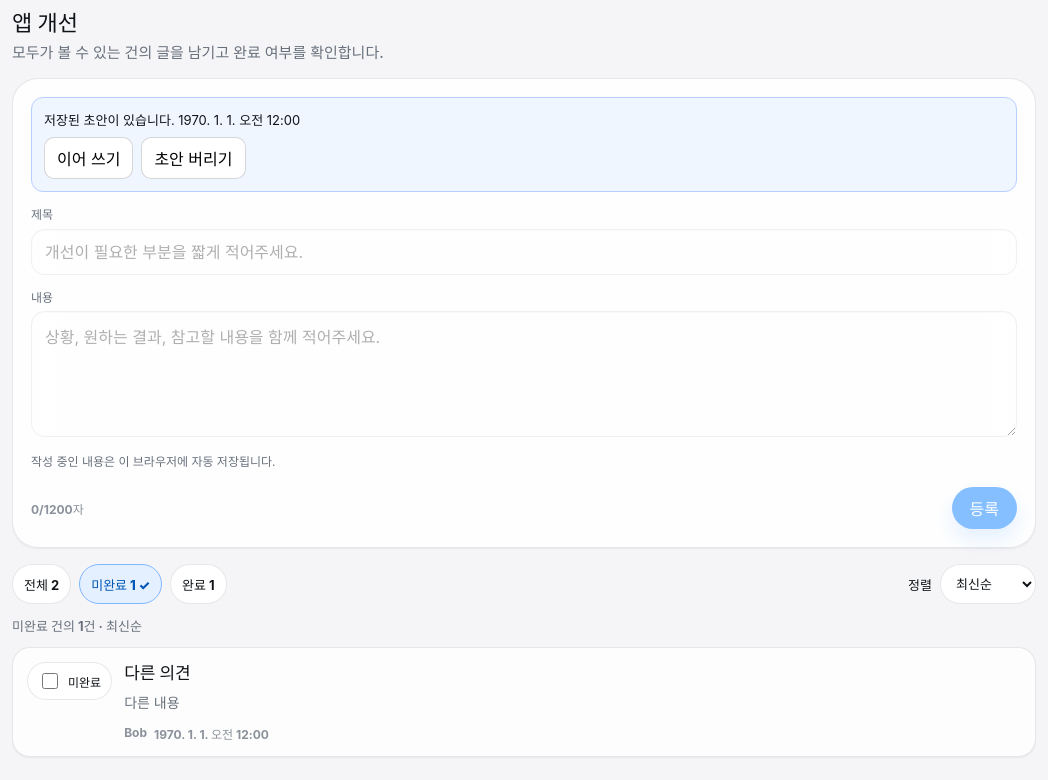
suggestion draft composer › offers continue or discard for an existing draft without posting automatically
Click the button "이어 쓰기": (89, 158) [44,137,133,179]
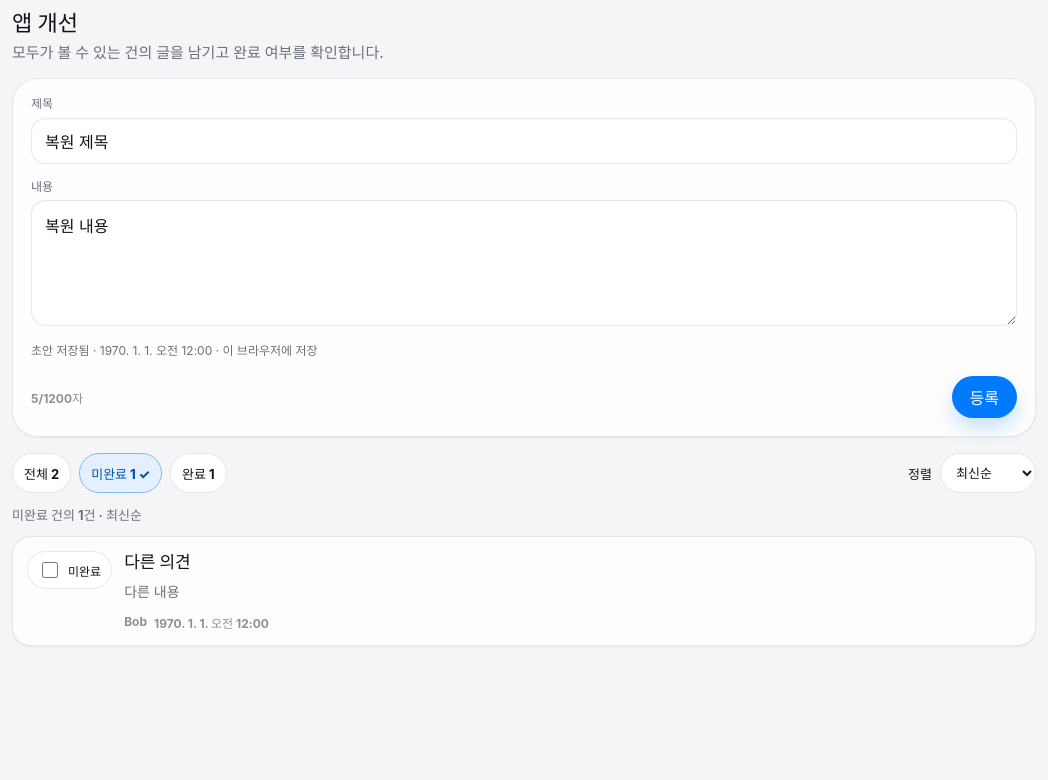
Check: the field labelled "제목" holds "복원 제목", box [31,118,1017,164]
Check: the text box labelled "내용" holds "복원 내용", box [31,200,1017,326]
Check: the text "초안 저장됨" is shown, box [31,343,318,358]
